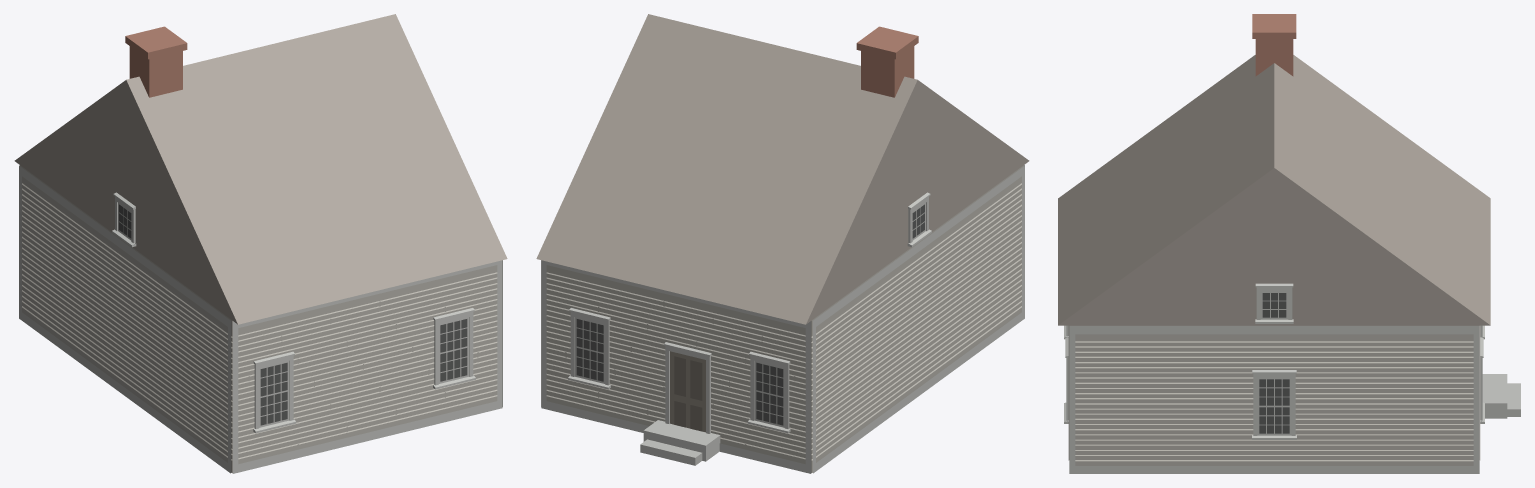
Rendered from recon_1835_west_005__inferred_1835.glb.
3 renders of one model, left to right at view 1: azimuth 30°, elevation 25°; view 2: azimuth 150°, elevation 25°; view 3: azimuth 270°, elevation 25°, orthographic. The views are drawn at different scales.
Parts seen in each view (by area): view 1: recon_1835_west_005__inferred_1835; view 2: recon_1835_west_005__inferred_1835; view 3: recon_1835_west_005__inferred_1835.
Part boxes in pixels (<box>): recon_1835_west_005__inferred_1835: <box>14,14,507,473</box>; recon_1835_west_005__inferred_1835: <box>536,14,1029,473</box>; recon_1835_west_005__inferred_1835: <box>1058,14,1520,473</box>.
Bounding box in the file's own units: 6.93 × 8.29 × 10.31.
